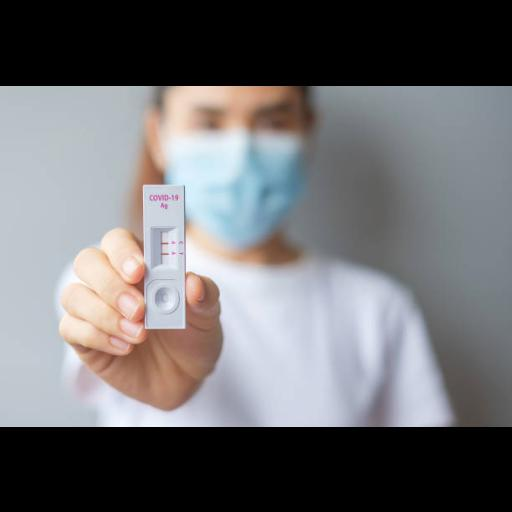Pos: (143, 184, 185, 326)
